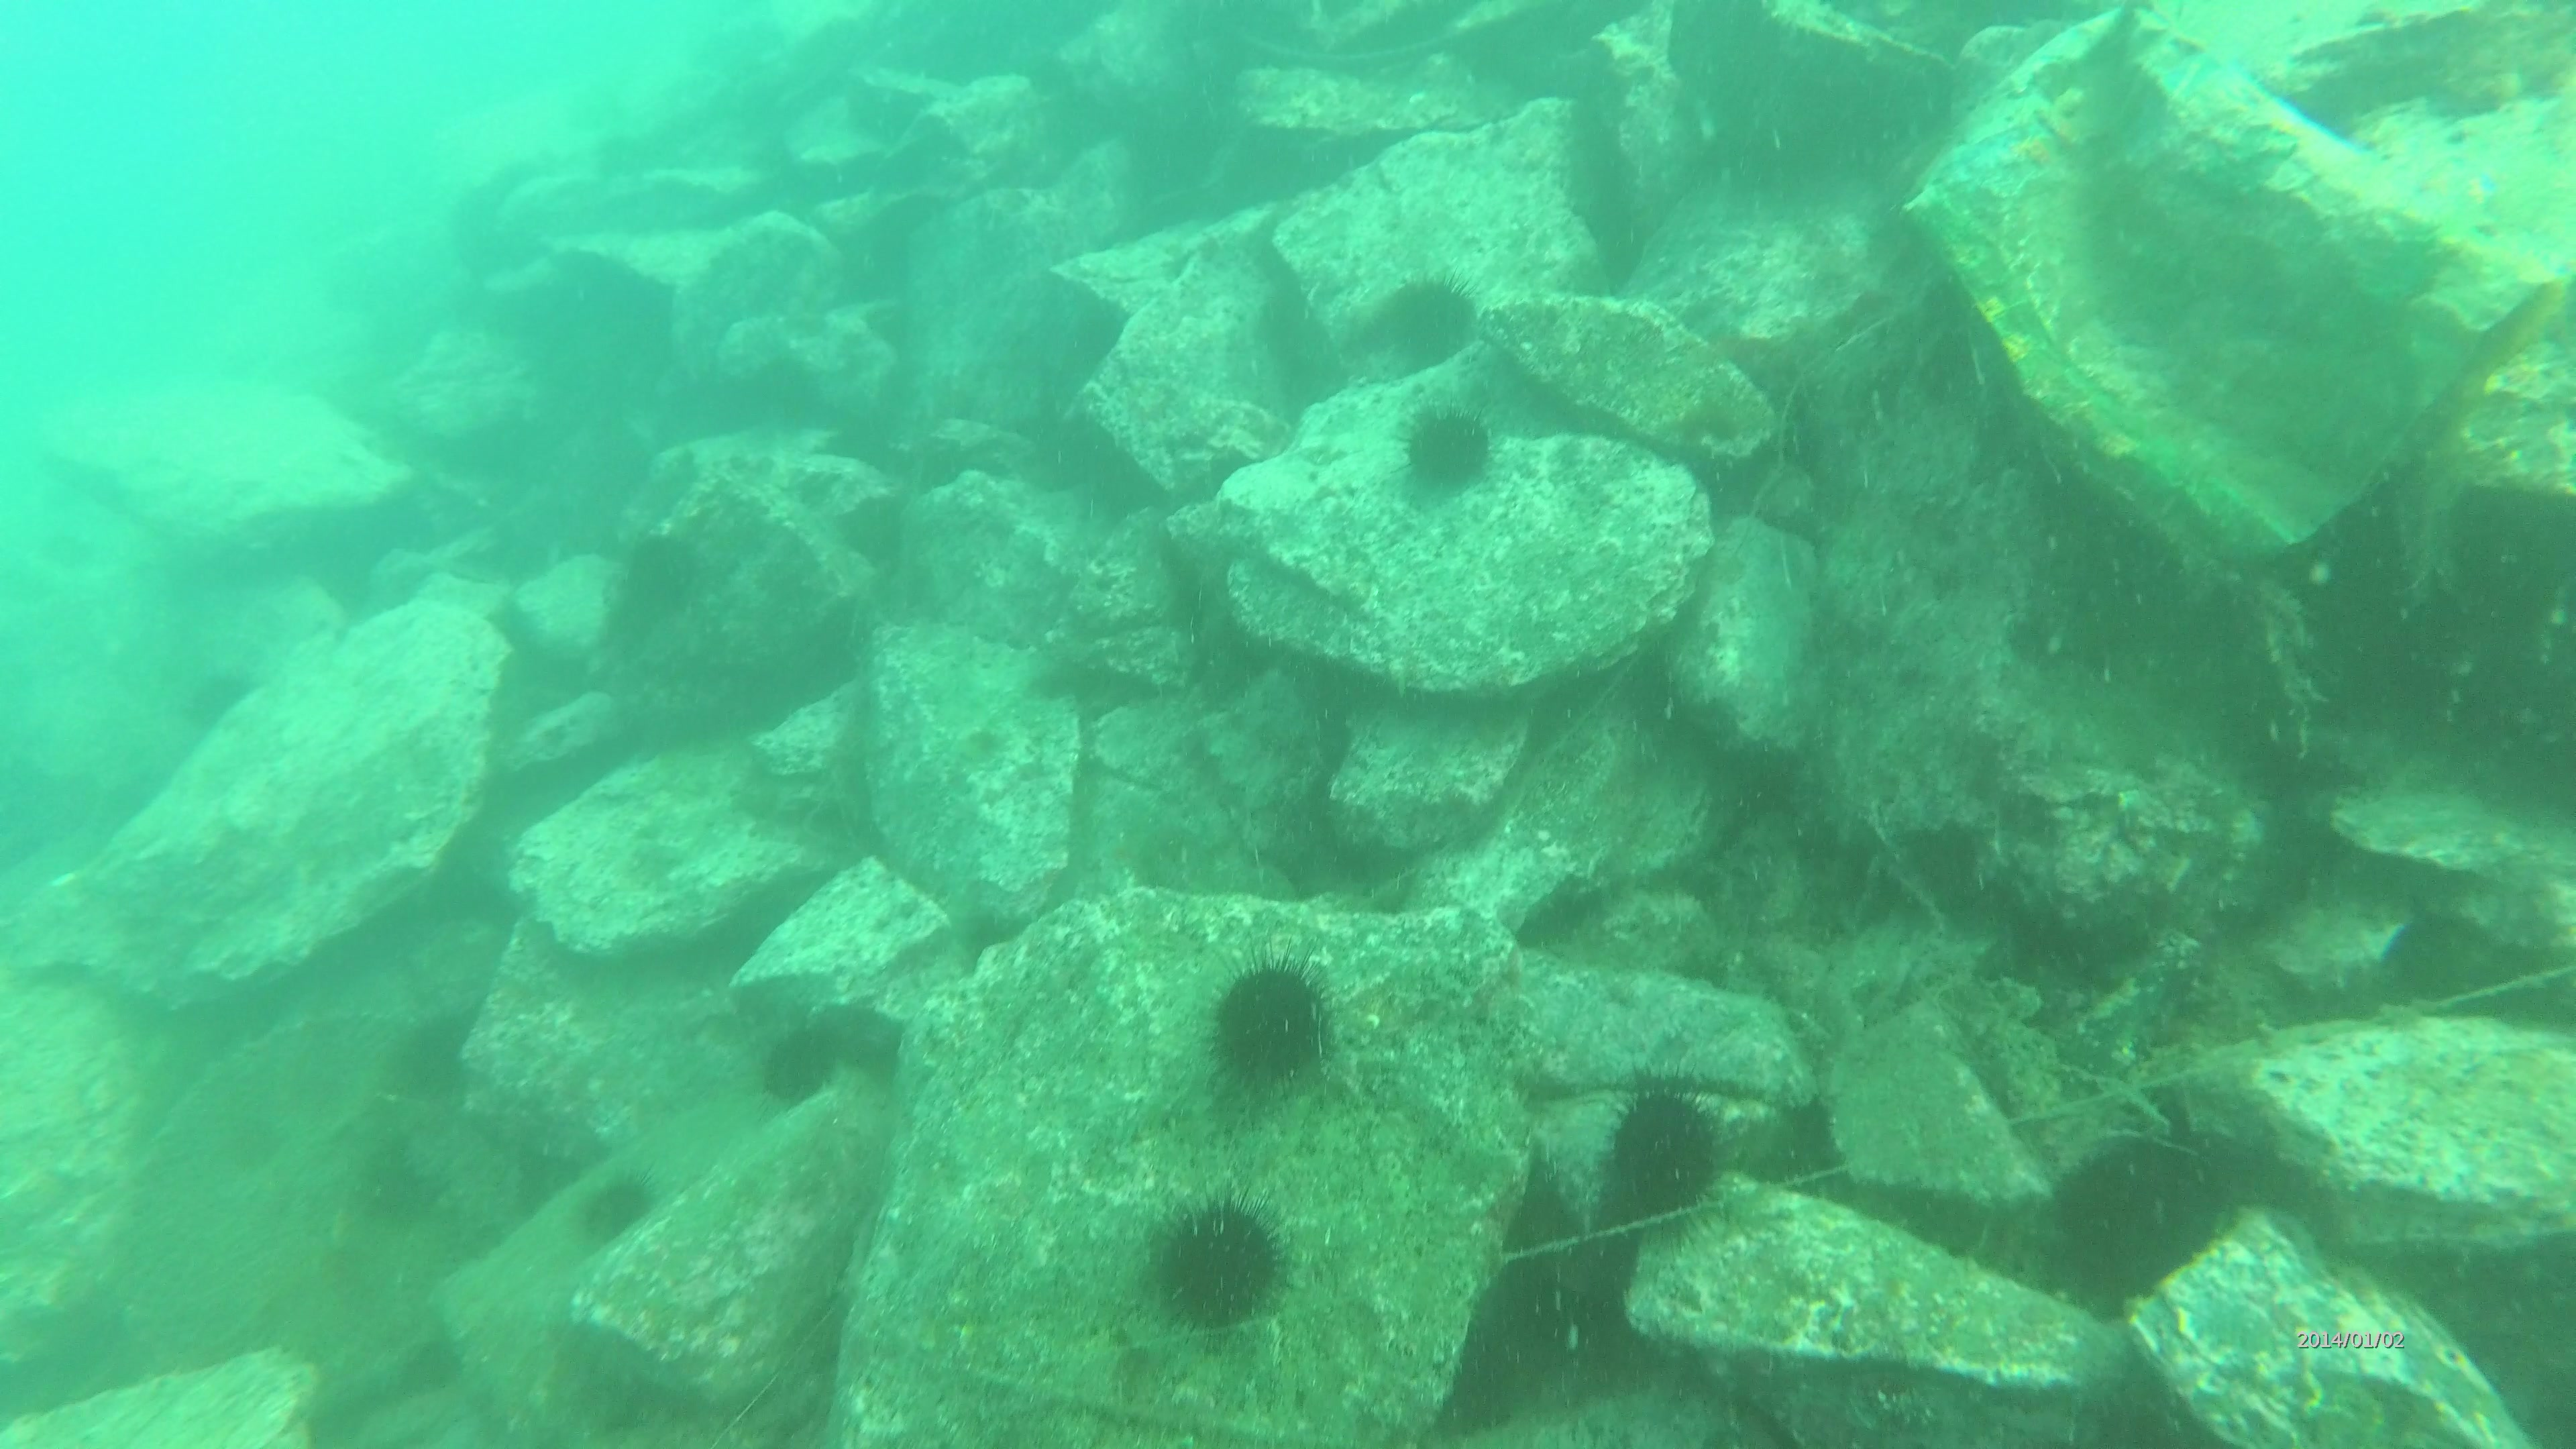echinus: (1196, 952, 1345, 1104), (1139, 1189, 1286, 1336), (1596, 1079, 1729, 1226), (1357, 264, 1495, 379), (1392, 395, 1493, 499), (610, 525, 713, 617), (747, 1024, 849, 1116), (584, 1171, 663, 1249), (748, 366, 821, 441)
